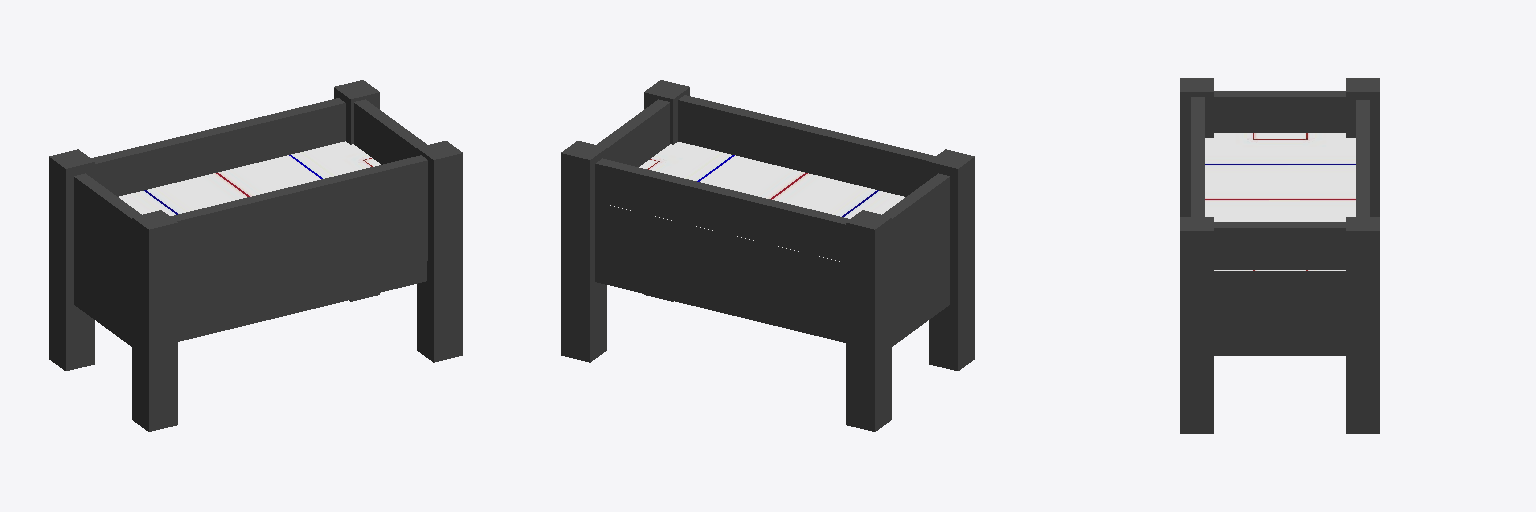
The picture shows the model from 3 angles: view 1: azimuth 30°, elevation 25°; view 2: azimuth 150°, elevation 25°; view 3: azimuth 270°, elevation 25°; orthographic projection.
Visible parts, largest first — view 1: table; view 2: table; view 3: table.
Boxes of the visible parts, <box> form: table: <box>49,80,462,431</box>; table: <box>561,80,974,431</box>; table: <box>1180,78,1379,433</box>.
Size of the model in its own units: 15.15 by 9.33 by 8.35.
Materials: 3 (1 with a texture image).